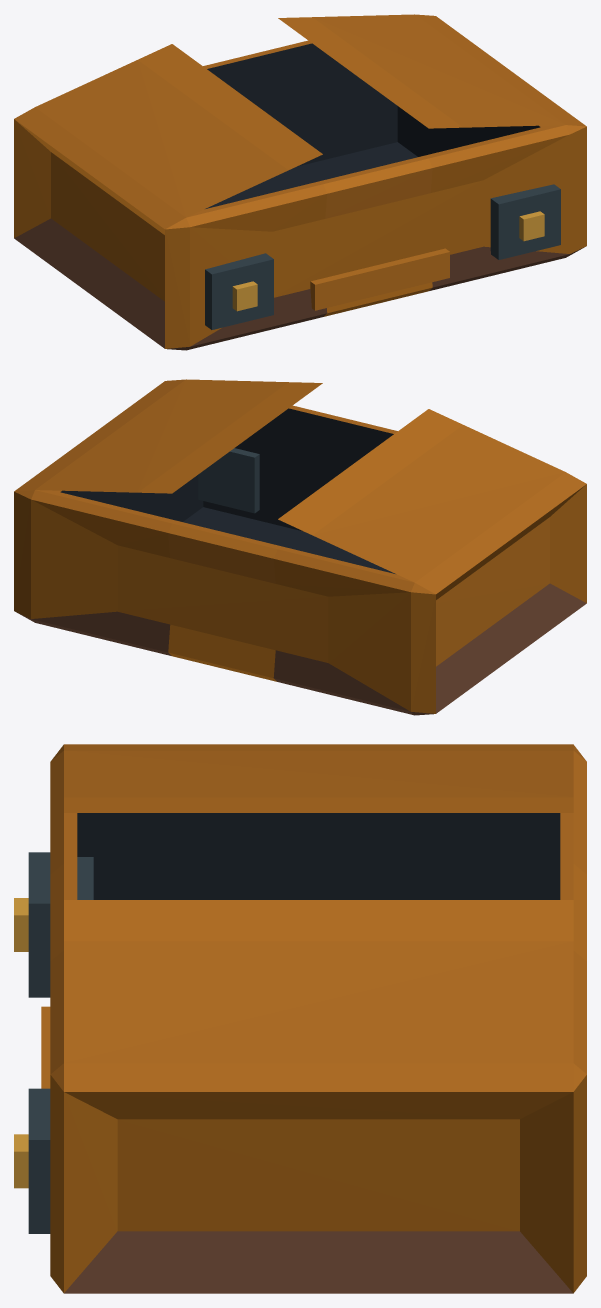
Rendered from fish-crate-butter.glb.
3 views of the same model, one above another, from view 1: azimuth 30°, elevation 25°; view 2: azimuth 150°, elevation 25°; view 3: azimuth 270°, elevation 25° (orthographic). The views are drawn at different scales.
Parts seen in each view (by area): view 1: fish-crate-butter; view 2: fish-crate-butter; view 3: fish-crate-butter.
Boxes of the visible parts, bbox=[...] form: fish-crate-butter: bbox=[14, 14, 586, 350]; fish-crate-butter: bbox=[14, 379, 586, 715]; fish-crate-butter: bbox=[14, 744, 586, 1293].
Bounding box in the file's own units: 0.95 × 0.35 × 0.6621.
